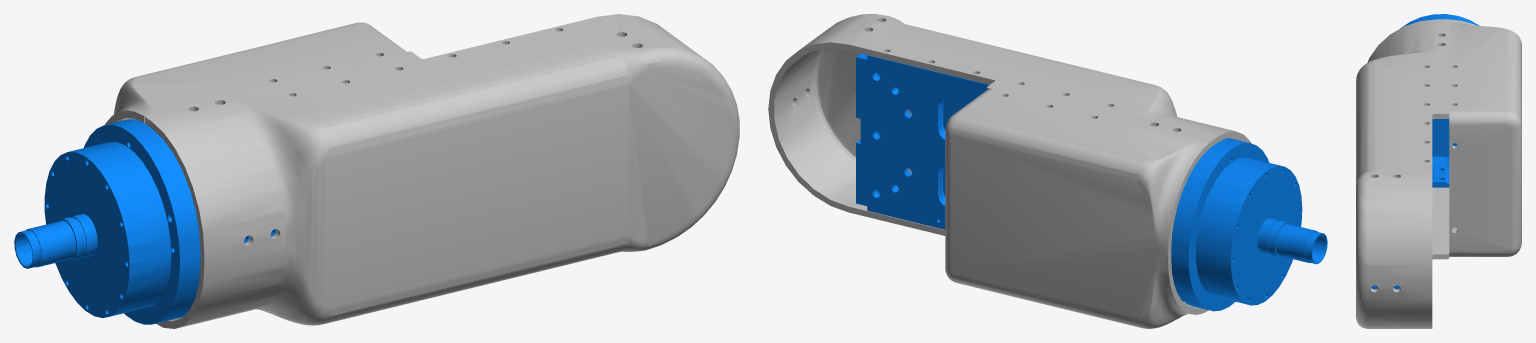
Rendered from body.dae.
3 views of the same model, side by side, from view 1: azimuth 30°, elevation 25°; view 2: azimuth 150°, elevation 25°; view 3: azimuth 270°, elevation 25° (orthographic). The views are drawn at different scales.
Visible parts, largest first — view 1: right_body_link4; view 2: right_body_link4; view 3: right_body_link4.
Boxes of the visible parts, x1,y1,x2,y2 form: right_body_link4: [14, 14, 739, 328]; right_body_link4: [768, 14, 1327, 328]; right_body_link4: [1356, 14, 1521, 328].
Bounding box in the file's own units: 0.2985 × 0.086 × 0.089.
